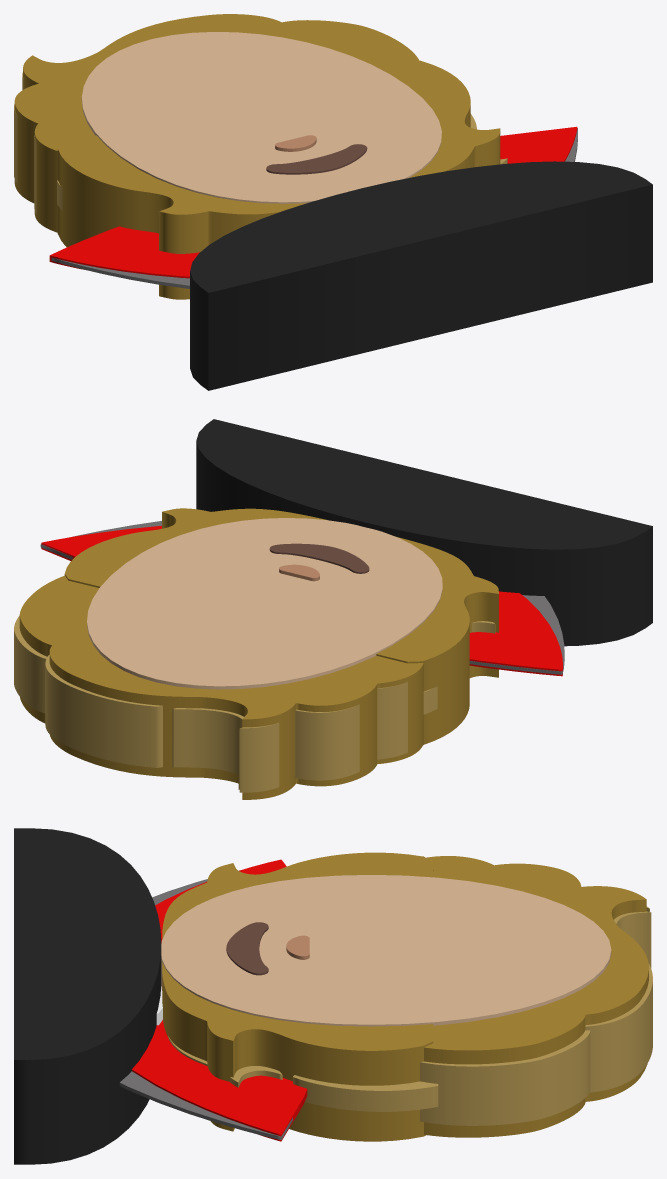
File: emoji_u1f9db_1f3fc.glb
3 views of the same model, one above another, from view 1: azimuth 30°, elevation 25°; view 2: azimuth 150°, elevation 25°; view 3: azimuth 270°, elevation 25° (orthographic). The views are drawn at different scales.
Parts seen in each view (by area): view 1: emoji_u1f9db_1f3fc; view 2: emoji_u1f9db_1f3fc; view 3: emoji_u1f9db_1f3fc.
Boxes of the visible parts, x1,y1,x2,y2 form: emoji_u1f9db_1f3fc: (14, 14, 652, 390); emoji_u1f9db_1f3fc: (14, 419, 652, 799); emoji_u1f9db_1f3fc: (14, 828, 652, 1164).
Bounding box in the file's own units: 0.0339 × 0.006 × 0.0332.
